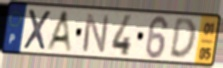4: (110, 13, 135, 58)
6: (144, 15, 170, 61)
A: (45, 9, 75, 56)
D: (168, 17, 198, 62)
N: (81, 12, 111, 55)
X: (22, 7, 53, 52)
